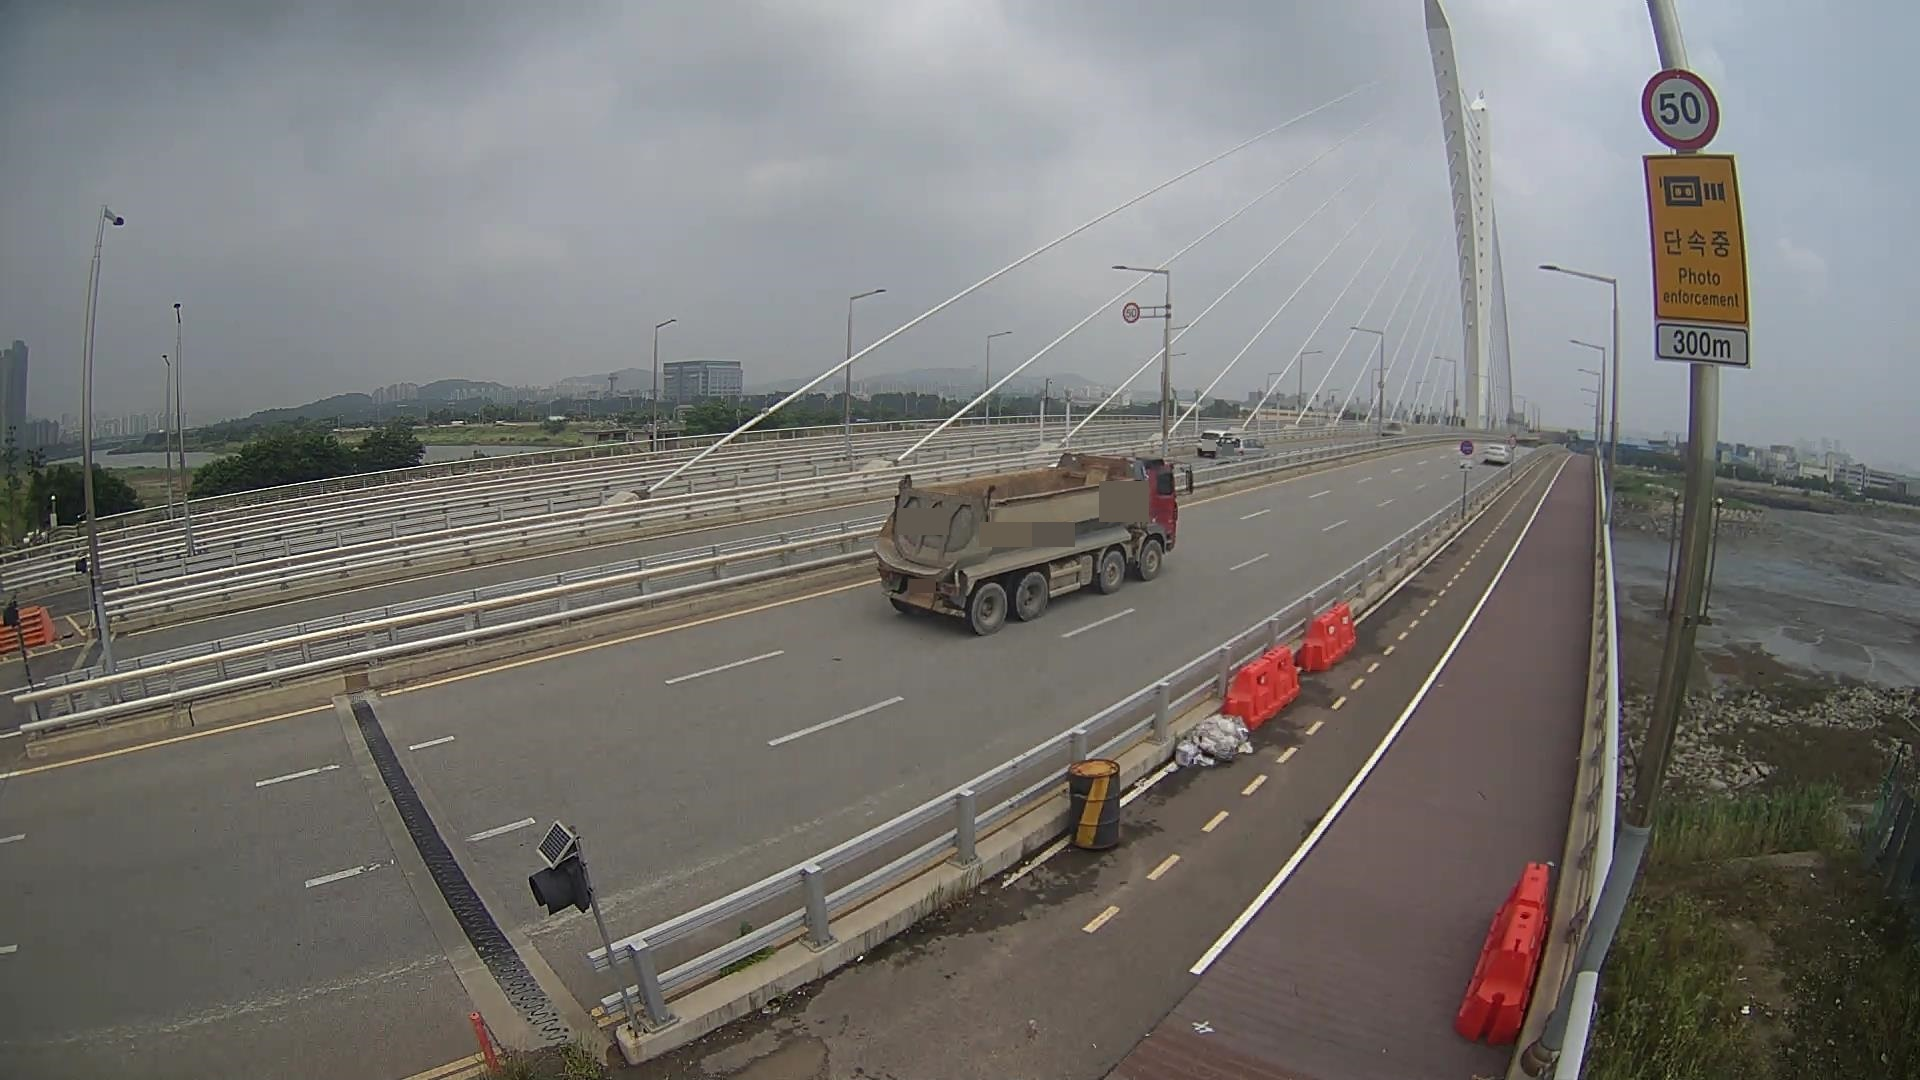정상차량: (873, 452, 1193, 637)
